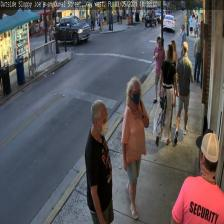person: (171, 128, 223, 223), (120, 76, 150, 218), (84, 99, 113, 224), (154, 44, 178, 147), (173, 41, 194, 145), (152, 36, 166, 103), (165, 40, 178, 106)
